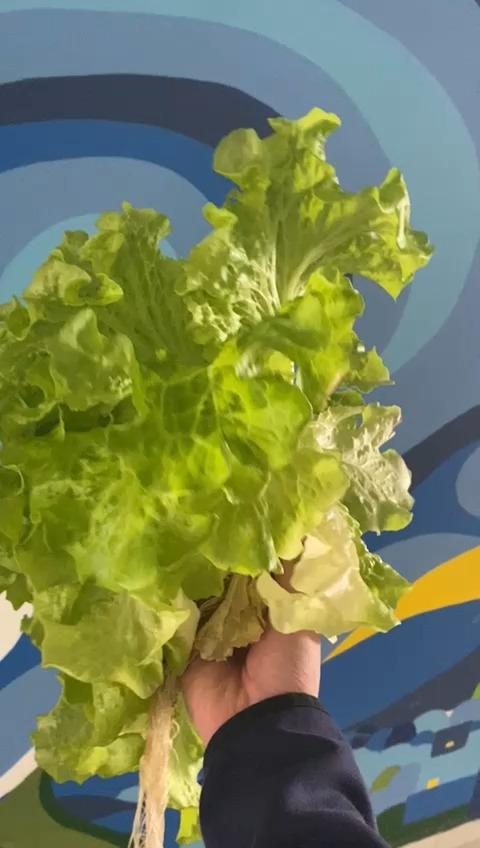Healthy: (0, 107, 433, 834)
